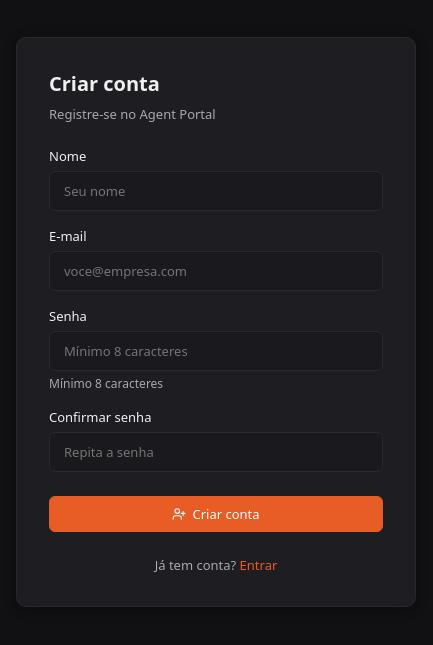
Test: RegisterPage › shows validation error when passwords don't match
Type "test@test.com" into the field labelled "E-mail". click: point(216, 271)
box: [49, 251, 383, 291]
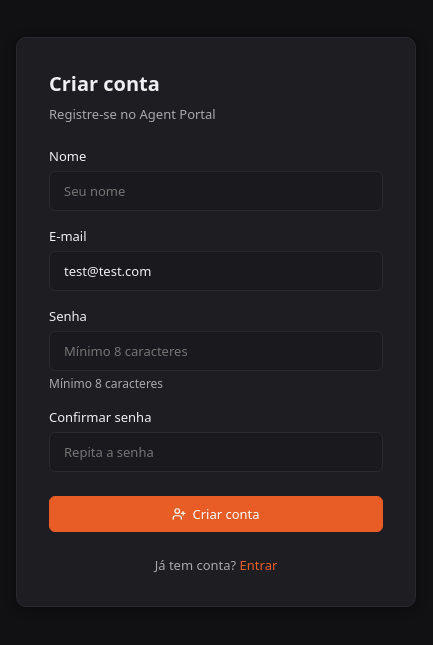
Type "password123" into the password field labelled "Senha". click: point(216, 351)
box: [49, 331, 383, 371]
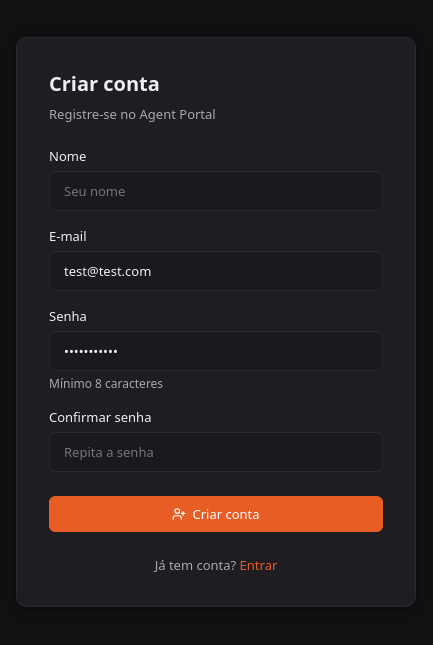
Type "different123" into the password field labelled "Confirmar senha". click: point(216, 452)
box: [49, 432, 383, 472]
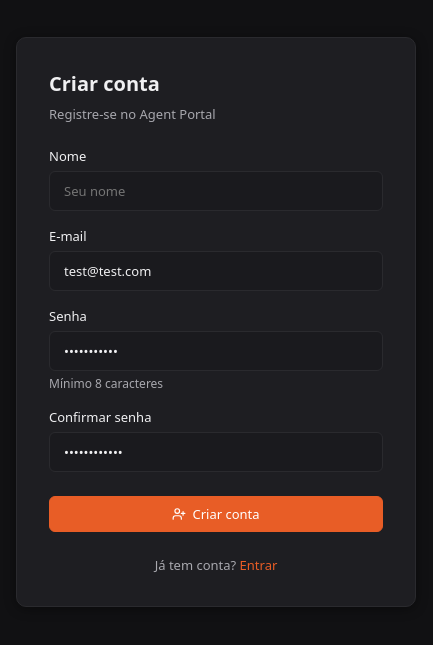
Click the button "Criar conta". click: point(216, 514)
box: [49, 496, 383, 532]
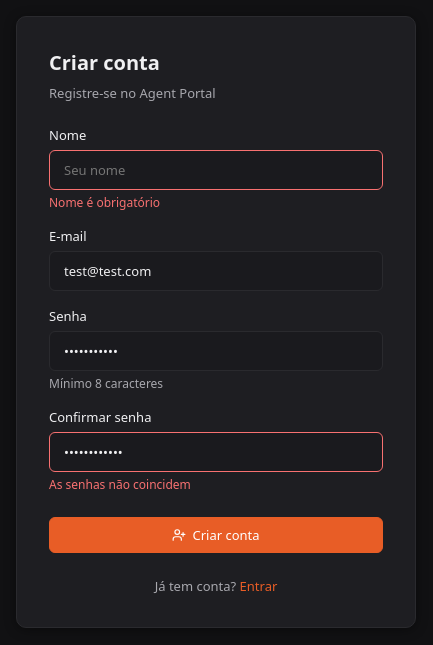
Expected: the text "As senhas não coincidem" is shown, [49, 476, 191, 493]
